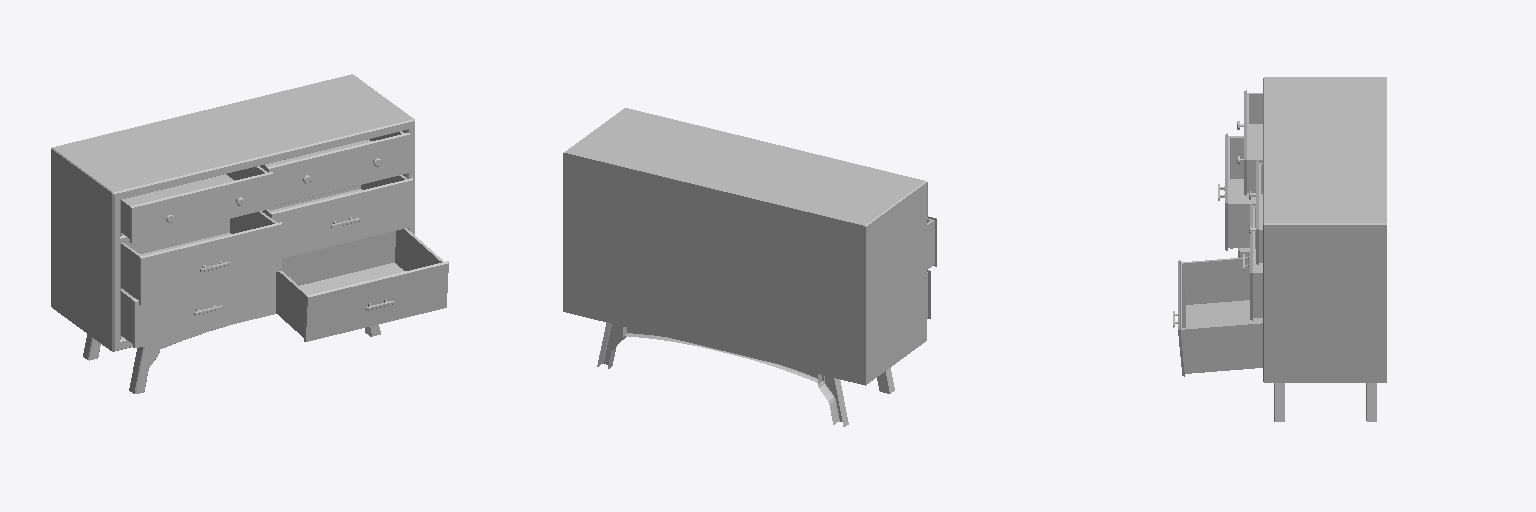
File: scaleddresser.obj
3 views of the same model, side by side, from view 1: azimuth 30°, elevation 25°; view 2: azimuth 150°, elevation 25°; view 3: azimuth 270°, elevation 25° (orthographic).
Parts seen in each view (by area): view 1: DawnDresser_a_Internal; view 2: DawnDresser_a_Internal; view 3: DawnDresser_a_Internal.
Part boxes in pixels (bbox=[...]): DawnDresser_a_Internal: bbox=[51, 74, 448, 393]; DawnDresser_a_Internal: bbox=[563, 108, 936, 426]; DawnDresser_a_Internal: bbox=[1173, 77, 1386, 421].
Bounding box in the file's own units: 11.08 × 7.41 × 6.8.